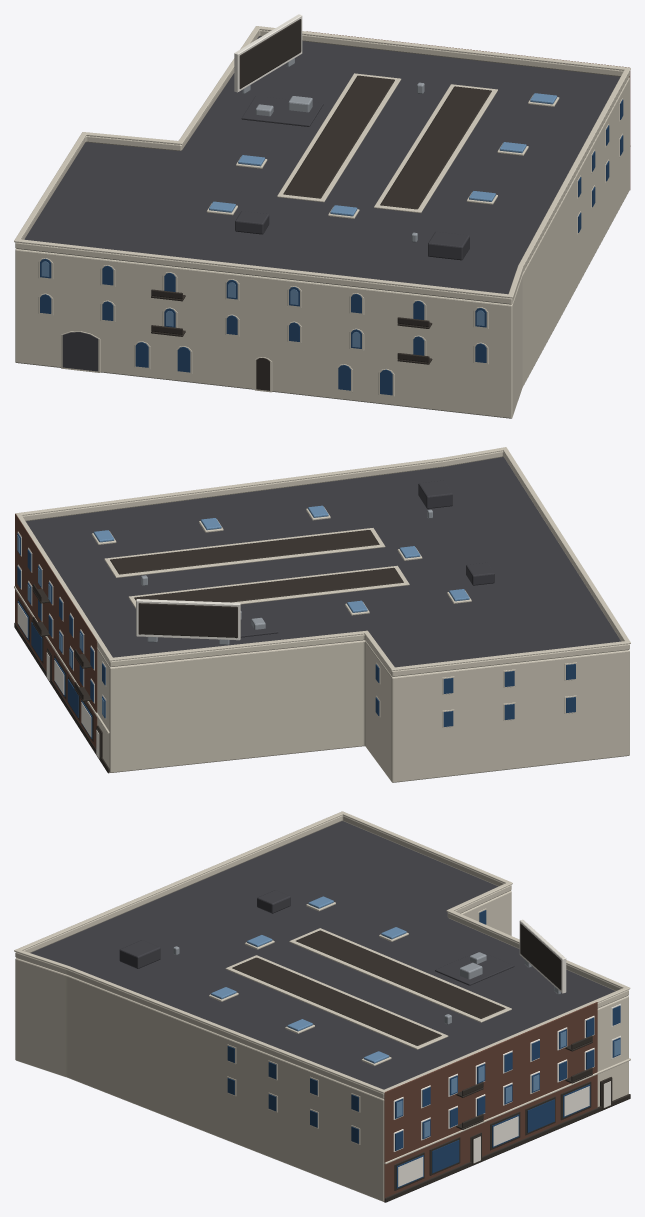
Rendered from 574-third.glb.
The picture shows the model from 3 angles, top to bottom: view 1: azimuth 30°, elevation 25°; view 2: azimuth 150°, elevation 25°; view 3: azimuth 270°, elevation 25°; orthographic projection. The views are drawn at different scales.
Visible parts, largest first — view 1: body, parapet, coping, well0, well1, bill_face, well_kerb1, well_kerb0, mech_plinth, ritch_service_fill, bulkhead, bill_frame (+1 smaller); view 2: body, parapet, coping, front_skin, well0, well1, bill_face, well_kerb0, well_kerb1, bill_frame, bulkhead, mech_plinth (+2 smaller); view 3: body, front_skin, parapet, coping, well0, well1, well_kerb1, well_kerb0, front_base, bill_face, mech_plinth, bulkhead (+5 smaller).
Part boxes in pixels (x1=…): body: x1=15, y1=36, x2=629, y2=418; parapet: x1=15, y1=30, x2=629, y2=304; coping: x1=14, y1=26, x2=630, y2=298; well0: x1=380, y1=86, x2=491, y2=209; well1: x1=283, y1=75, x2=394, y2=198; bill_face: x1=239, y1=19, x2=301, y2=88; well_kerb1: x1=277, y1=73, x2=401, y2=202; well_kerb0: x1=374, y1=84, x2=497, y2=213; mech_plinth: x1=241, y1=96, x2=323, y2=126; ritch_service_fill: x1=62, y1=332, x2=98, y2=371; bulkhead: x1=428, y1=231, x2=469, y2=260; bill_frame: x1=234, y1=14, x2=302, y2=92; body: x1=26, y1=457, x2=629, y2=782; parapet: x1=22, y1=451, x2=629, y2=676; coping: x1=15, y1=447, x2=630, y2=670; front_skin: x1=15, y1=513, x2=97, y2=748; well0: x1=110, y1=530, x2=379, y2=574; well1: x1=134, y1=567, x2=403, y2=602; bill_face: x1=138, y1=603, x2=237, y2=638; well_kerb0: x1=104, y1=528, x2=385, y2=577; well_kerb1: x1=128, y1=565, x2=409, y2=608; bill_frame: x1=136, y1=599, x2=240, y2=640; bulkhead: x1=418, y1=480, x2=452, y2=508; mech_plinth: x1=240, y1=605, x2=278, y2=637; body: x1=15, y1=821, x2=628, y2=1201; front_skin: x1=384, y1=1002, x2=597, y2=1202; parapet: x1=15, y1=815, x2=628, y2=1098; coping: x1=14, y1=811, x2=630, y2=1093; well0: x1=232, y1=957, x2=441, y2=1045; well1: x1=296, y1=930, x2=505, y2=1018; well_kerb1: x1=289, y1=928, x2=511, y2=1022; well_kerb0: x1=225, y1=955, x2=448, y2=1049; front_base: x1=384, y1=1094, x2=630, y2=1202; bill_face: x1=520, y1=923, x2=561, y2=989; mech_plinth: x1=435, y1=951, x2=514, y2=985; bulkhead: x1=119, y1=940, x2=160, y2=968.
Size of the model in its own units: 64.95 by 15.4 by 60.15.
